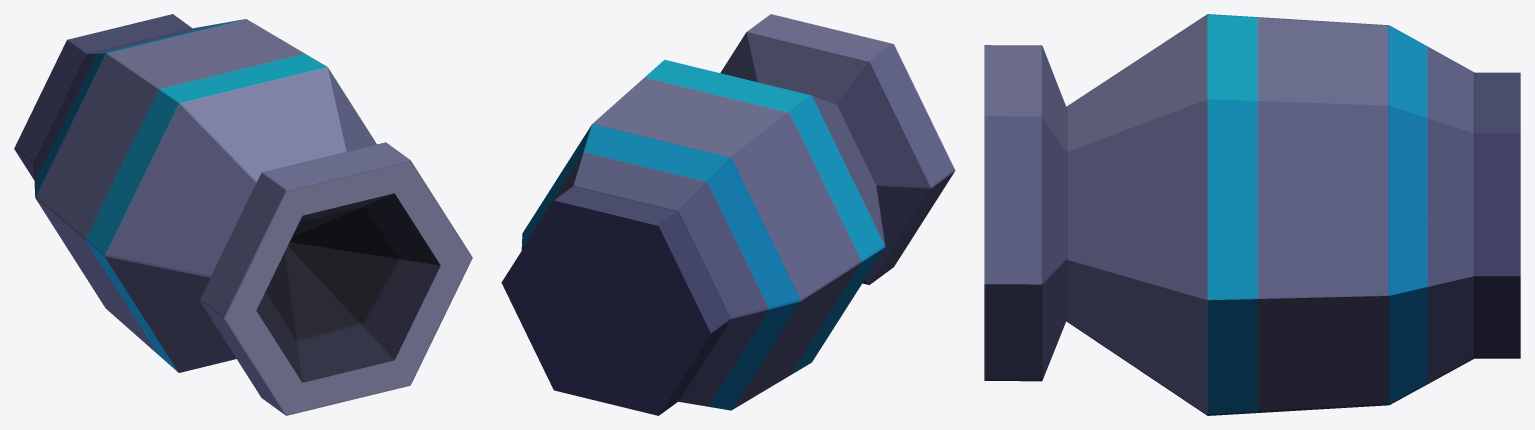
Rendered from Fight_Scene_Cannon_001.FBX.
3 renders of one model, left to right at view 1: azimuth 30°, elevation 25°; view 2: azimuth 150°, elevation 25°; view 3: azimuth 270°, elevation 25°, orthographic. The views are drawn at different scales.
Visible parts, largest first — view 1: Fight_Scene_Cannon_001; view 2: Fight_Scene_Cannon_001; view 3: Fight_Scene_Cannon_001.
Part boxes in pixels (x1=…): Fight_Scene_Cannon_001: x1=14, y1=14, x2=472, y2=415; Fight_Scene_Cannon_001: x1=501, y1=14, x2=955, y2=415; Fight_Scene_Cannon_001: x1=984, y1=14, x2=1520, y2=415.
Size of the model in its own units: 131 by 113 by 174.
